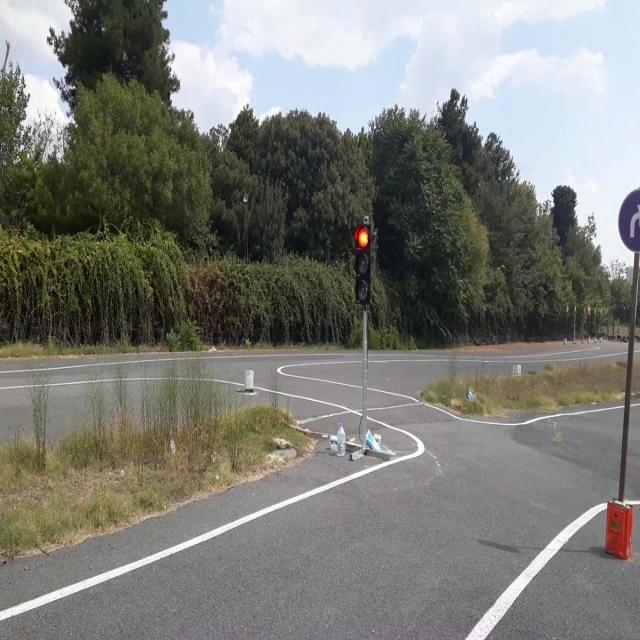kirmizi: (355, 225, 369, 304)
sag: (617, 188, 640, 252)
